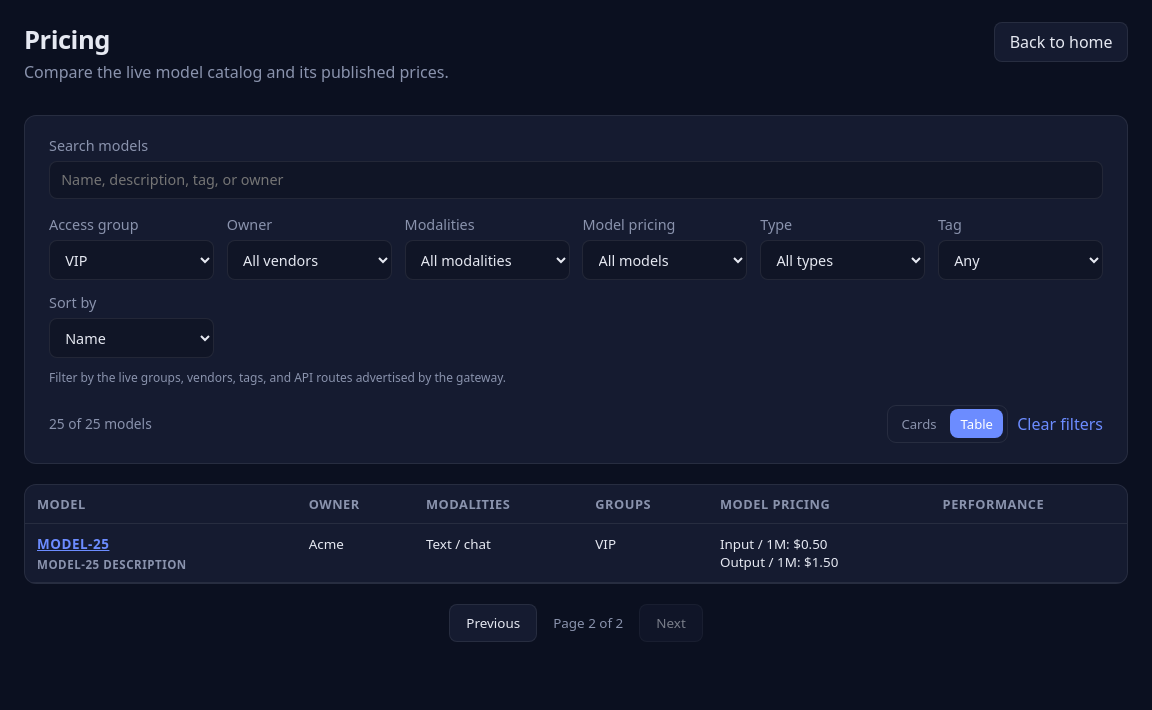
Test: PricingView catalog › validates initial query state and paginates at a bounded 24 rows
Expected: the number of rows is 2, [25,484,1127,524]; [25,524,1127,583]
Expected: the link "model-25" is shown, [37,535,109,553]
Click the button "Previous". click: (493, 623)
box: [449,604,537,642]
(page scrolled)
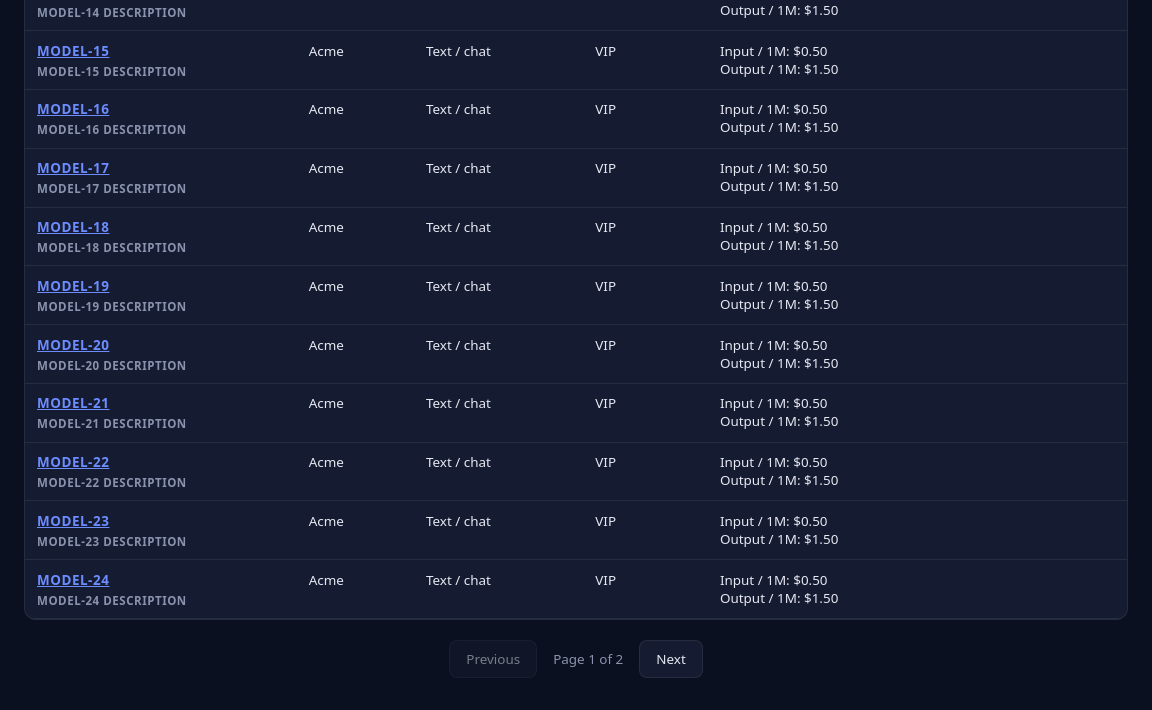
Now the text "Page 1 of 2" is shown, box [553,650,623,668]
